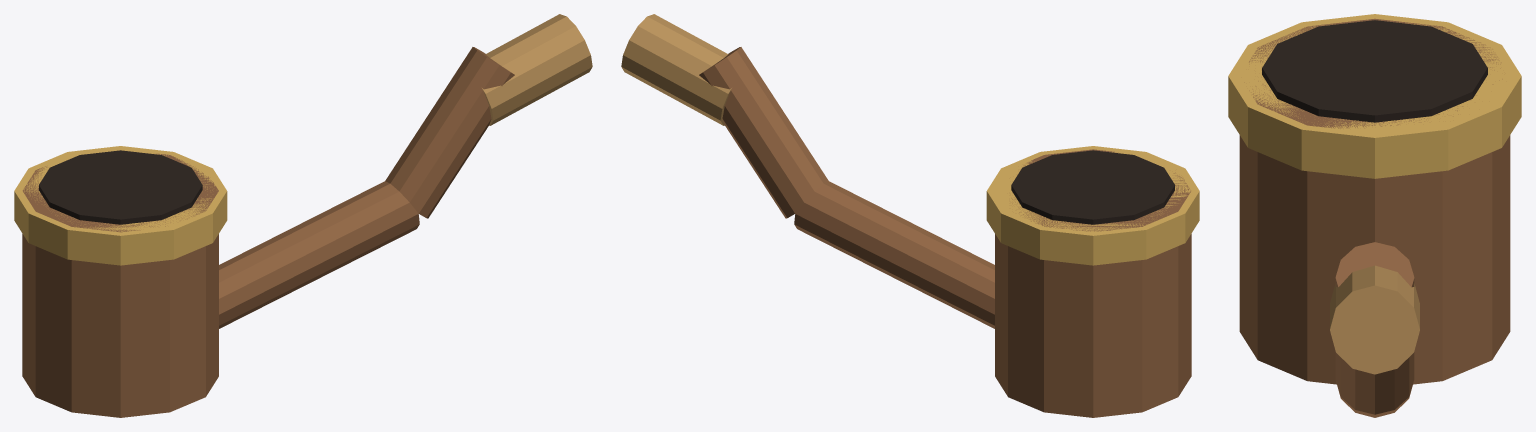
The model's file is pipe-1.glb.
The picture shows the model from 3 angles, left to right: view 1: azimuth 30°, elevation 25°; view 2: azimuth 150°, elevation 25°; view 3: azimuth 270°, elevation 25°; orthographic projection. The views are drawn at different scales.
Visible parts, largest first — view 1: Wiggle_Asset; view 2: Wiggle_Asset; view 3: Wiggle_Asset.
Part boxes in pixels (x1,y1,x2,y2): Wiggle_Asset: [14, 14, 592, 417]; Wiggle_Asset: [621, 14, 1199, 417]; Wiggle_Asset: [1228, 14, 1521, 417].
Size of the model in its own units: 0.781 by 0.3385 by 0.26.
